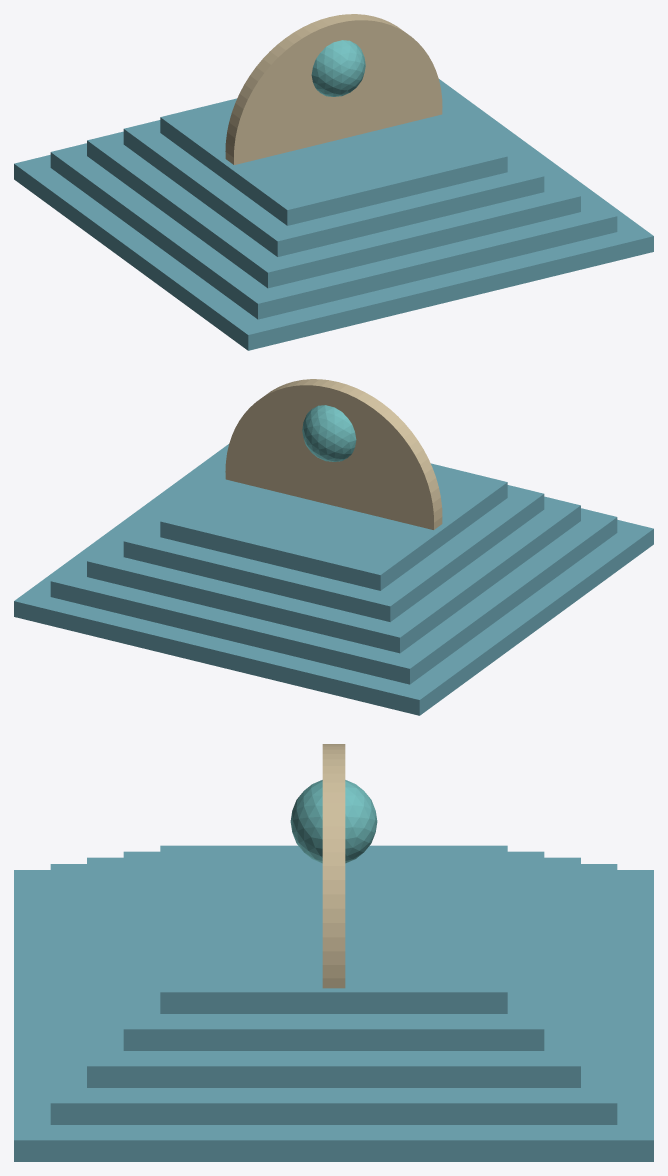
The model's file is borobudur_5_square_3_circle.glb.
3 views of the same model, one above another, from view 1: azimuth 30°, elevation 25°; view 2: azimuth 150°, elevation 25°; view 3: azimuth 270°, elevation 25° (orthographic). The views are drawn at different scales.
Visible parts, largest first — view 1: square_terrace_1, square_terrace_5, square_terrace_2, square_terrace_3, circular_terrace_1, square_terrace_4, circular_terrace_2, top_stupa_ideal, circular_terrace_3; view 2: square_terrace_1, square_terrace_5, square_terrace_2, square_terrace_3, circular_terrace_1, square_terrace_4, circular_terrace_2, top_stupa_ideal, circular_terrace_3; view 3: square_terrace_5, square_terrace_1, square_terrace_2, square_terrace_3, square_terrace_4, circular_terrace_1, top_stupa_ideal.
Part boxes in pixels (<box>): square_terrace_1: <box>14,79,653,350</box>; square_terrace_5: <box>160,98,507,225</box>; square_terrace_2: <box>50,87,617,319</box>; square_terrace_3: <box>87,95,580,288</box>; circular_terrace_1: <box>225,14,442,164</box>; square_terrace_4: <box>123,102,544,256</box>; circular_terrace_2: <box>253,26,422,159</box>; top_stupa_ideal: <box>311,40,365,96</box>; circular_terrace_3: <box>273,33,402,149</box>; square_terrace_1: <box>14,444,653,715</box>; square_terrace_5: <box>160,463,507,590</box>; square_terrace_2: <box>50,452,617,684</box>; square_terrace_3: <box>87,460,580,653</box>; circular_terrace_1: <box>225,379,442,529</box>; square_terrace_4: <box>123,467,544,621</box>; circular_terrace_2: <box>245,391,414,524</box>; top_stupa_ideal: <box>302,405,356,461</box>; circular_terrace_3: <box>265,398,394,508</box>; square_terrace_5: <box>160,845,507,1013</box>; square_terrace_1: <box>14,870,653,1161</box>; square_terrace_2: <box>50,864,617,1124</box>; square_terrace_3: <box>87,857,580,1087</box>; square_terrace_4: <box>123,851,544,1050</box>; circular_terrace_1: <box>322,744,345,988</box>; top_stupa_ideal: <box>290,780,377,863</box>.
Size of the model in its own units: 14 by 7.2 by 14.
